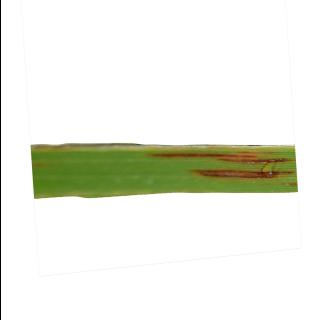Bercak-Cokelat-Sempit: (138, 145, 294, 185)
